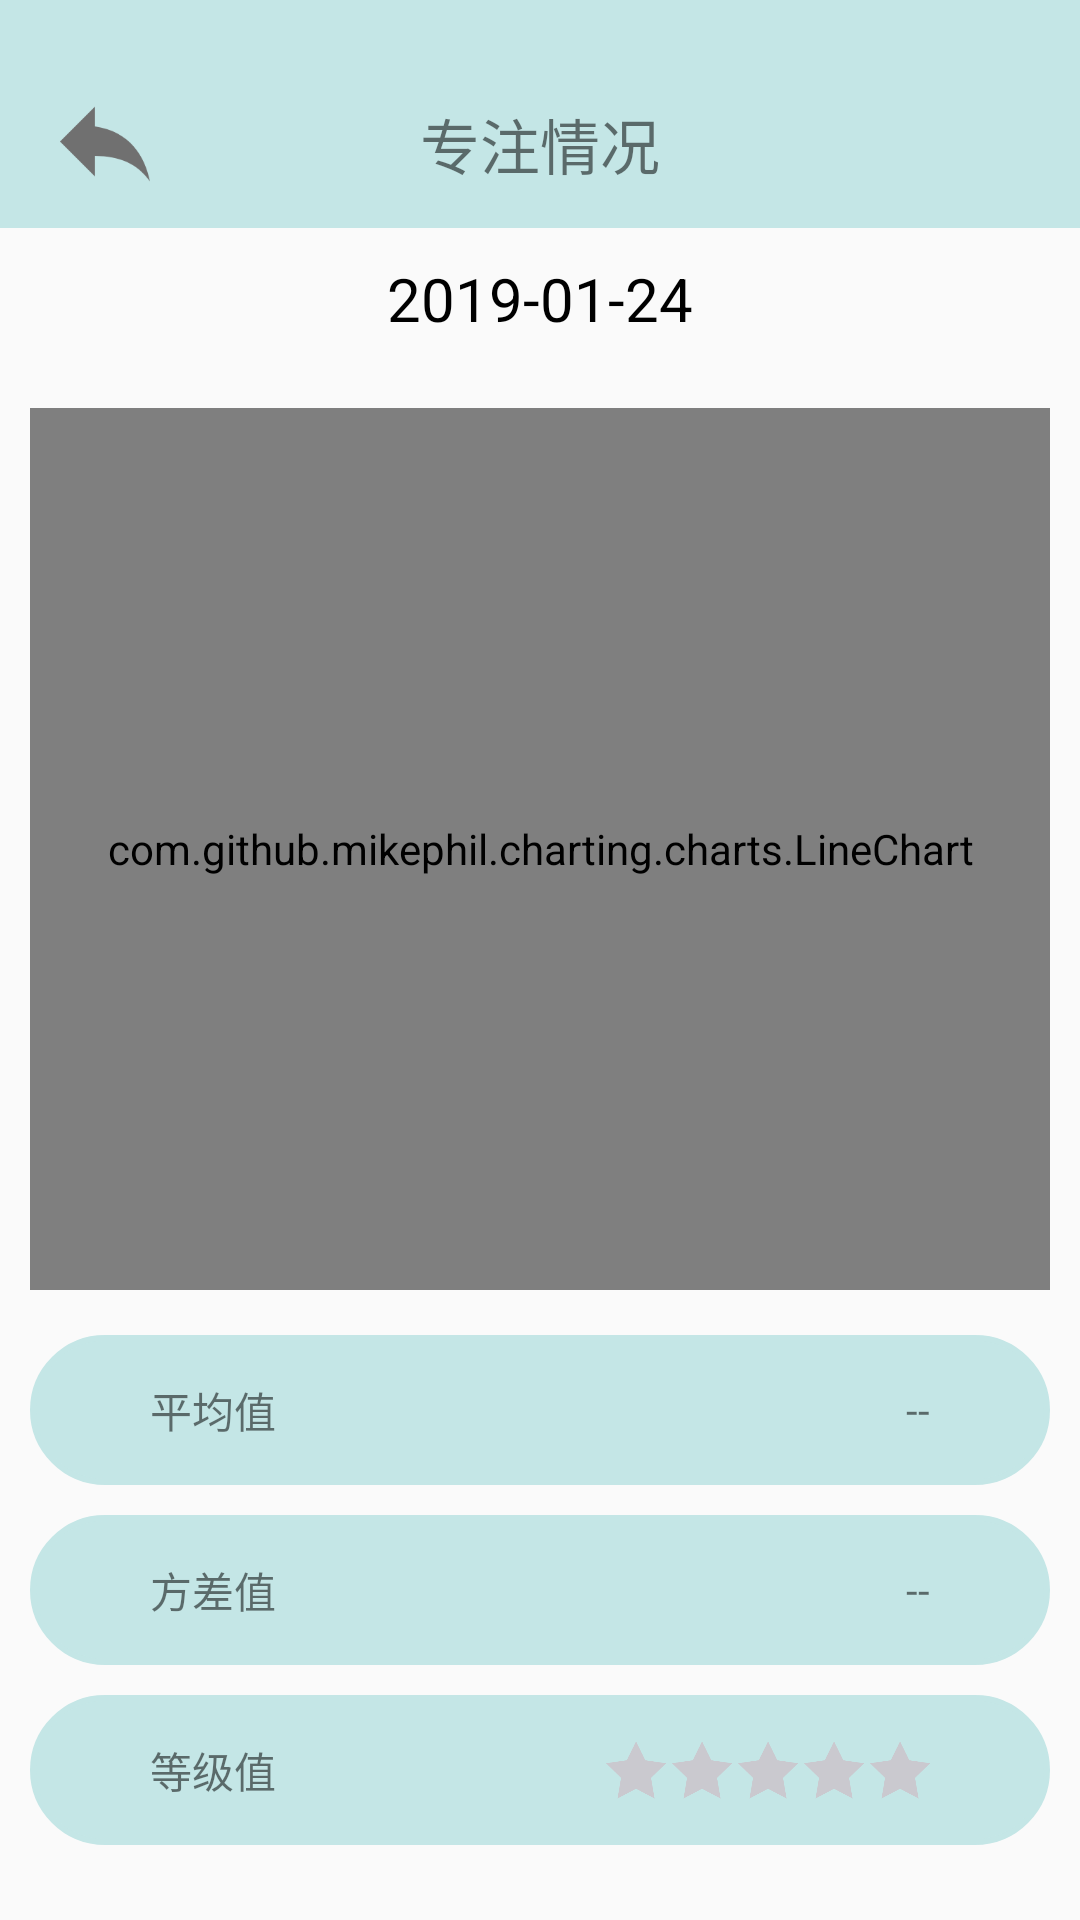

Where to tap for icons on this 1080w x 1920h app screen, as (x,y):
back all: (105,144)
zero star: (636,1770), (702,1770), (768,1770), (834,1770), (900,1770)
